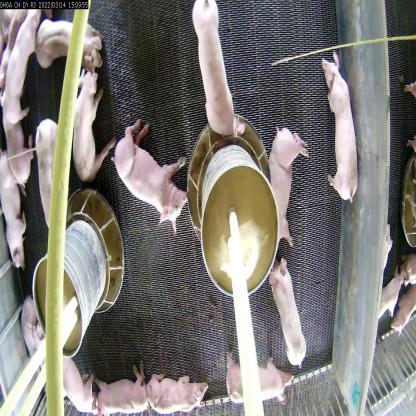Pig: (110, 117, 190, 235), (186, 0, 249, 142), (316, 45, 362, 206), (265, 115, 309, 257), (265, 255, 314, 372), (72, 69, 116, 182), (31, 118, 72, 238), (33, 13, 106, 78), (0, 5, 36, 129), (224, 350, 294, 409), (0, 148, 28, 278), (51, 350, 101, 415), (86, 364, 148, 416), (0, 99, 35, 188), (144, 368, 210, 415), (378, 265, 403, 326)
